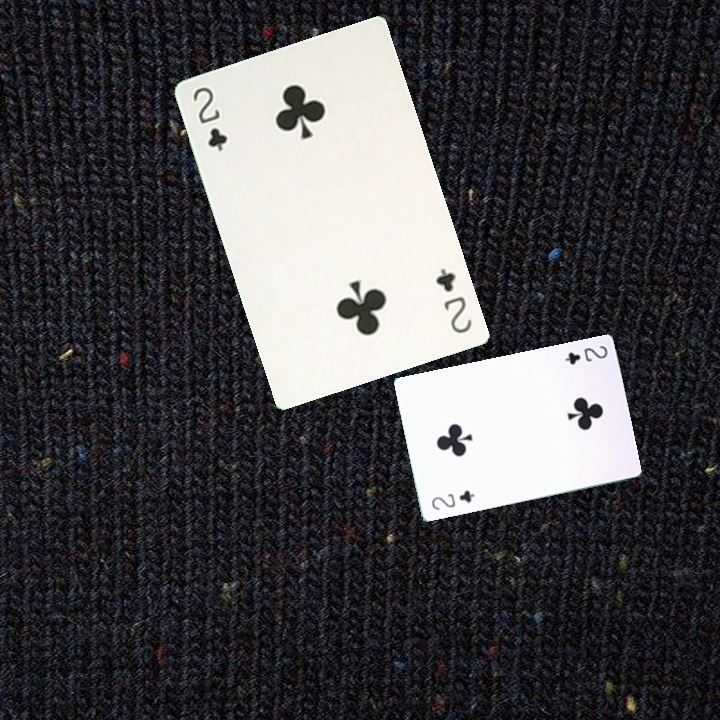2c: (431, 264, 475, 336), (188, 82, 230, 154), (427, 486, 477, 513), (561, 341, 610, 367)
